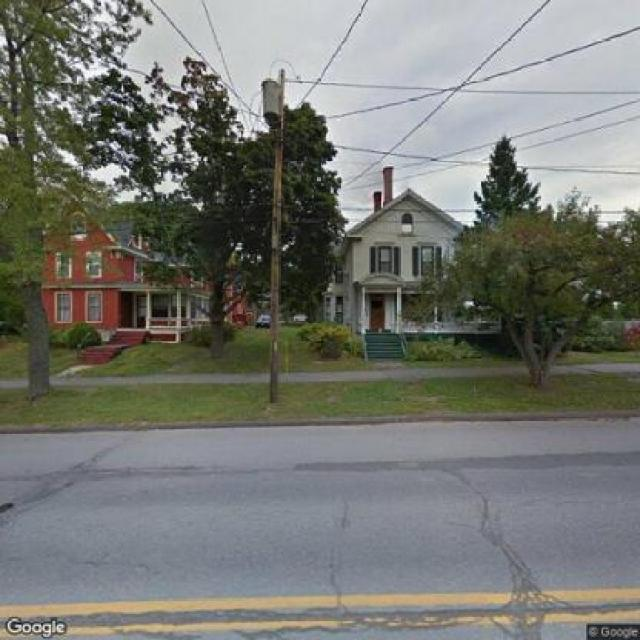pole: (242, 62, 310, 400)
